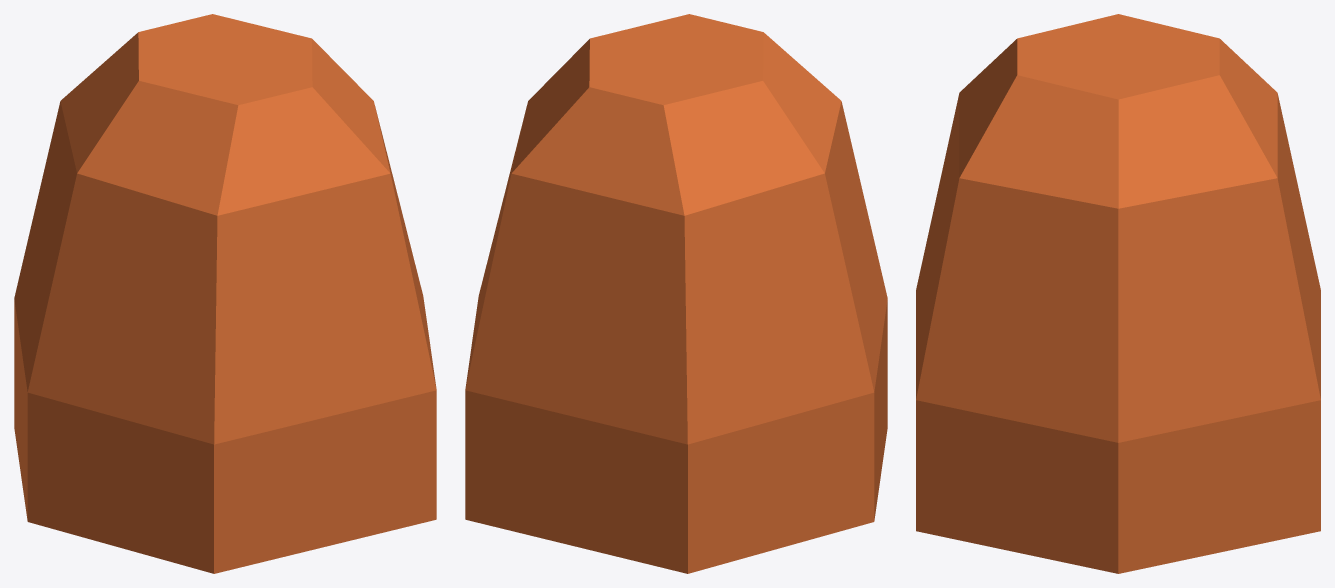
File: barrier_04.glb
3 views of the same model, side by side, from view 1: azimuth 30°, elevation 25°; view 2: azimuth 150°, elevation 25°; view 3: azimuth 270°, elevation 25° (orthographic).
Parts seen in each view (by area): view 1: cylinder; view 2: cylinder; view 3: cylinder.
Boxes of the visible parts, left/top/right/bottom form: cylinder: left=14, top=14, right=436, bottom=573; cylinder: left=465, top=14, right=887, bottom=573; cylinder: left=916, top=14, right=1320, bottom=573.
Bounding box in the file's own units: 2 × 2 × 1.75.
Materials: 1 (1 with a texture image).
